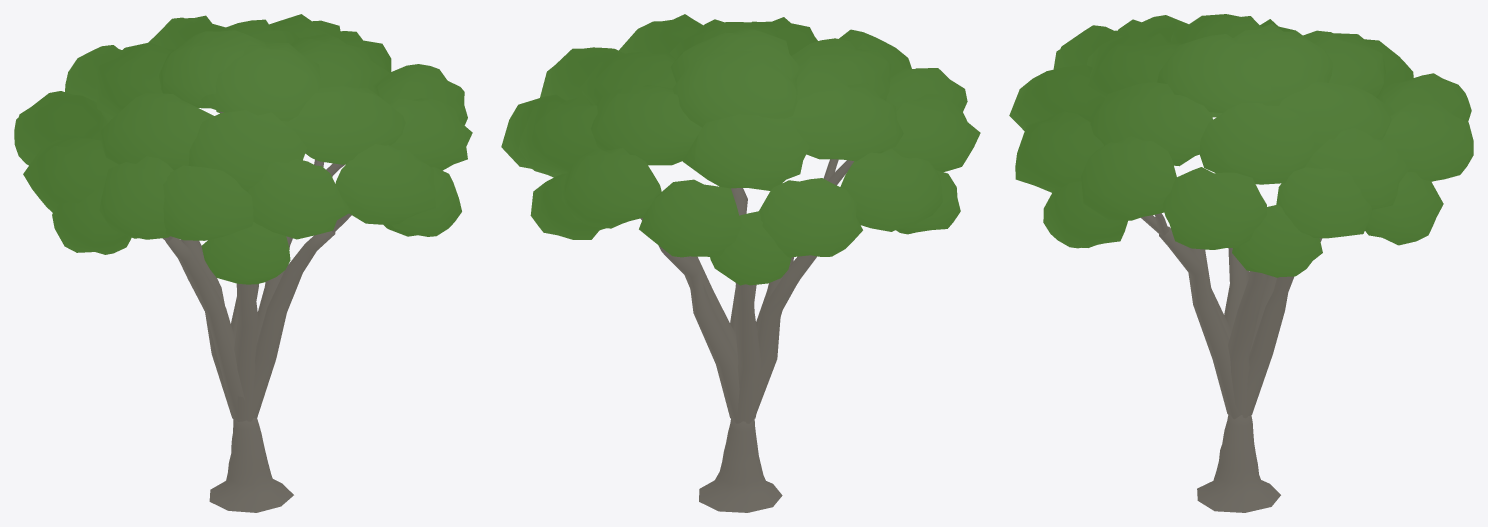
File: Blender_AmericanElm_1.glb
3 renders of one model, left to right at view 1: azimuth 30°, elevation 25°; view 2: azimuth 150°, elevation 25°; view 3: azimuth 270°, elevation 25°, orthographic.
Visible parts, largest first — view 1: Blender_AmericanElm_1; view 2: Blender_AmericanElm_1; view 3: Blender_AmericanElm_1.
Part boxes in pixels (x1,y1,x2,y2): Blender_AmericanElm_1: (14, 14, 472, 512); Blender_AmericanElm_1: (501, 14, 980, 512); Blender_AmericanElm_1: (1009, 14, 1473, 512).
Size of the model in its own units: 24.34 by 25.57 by 23.57.
